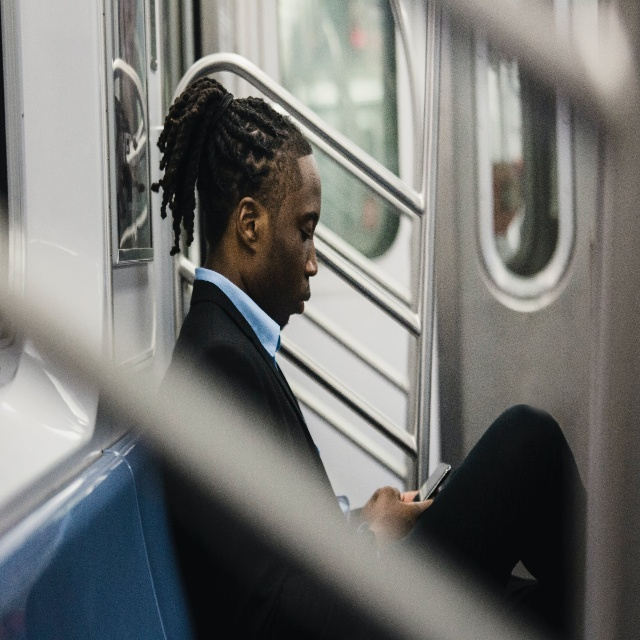Sin_guantes: (363, 484, 433, 531)
